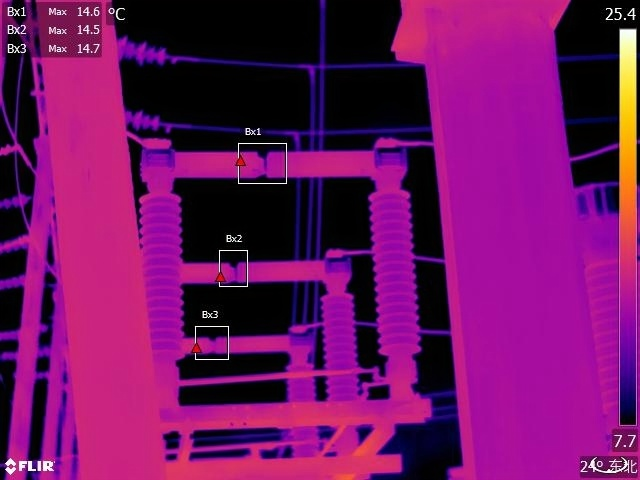current transformer: (574, 177, 640, 472)
insulator: (113, 31, 181, 73), (126, 107, 167, 135), (1, 348, 48, 366), (1, 234, 33, 260), (1, 133, 25, 166), (1, 189, 32, 213), (1, 274, 35, 294), (3, 326, 25, 341)
post insulator: (370, 191, 431, 365), (135, 183, 189, 356), (320, 288, 363, 409), (284, 355, 325, 463)
switch: (138, 140, 413, 201), (182, 240, 357, 306), (186, 315, 320, 368)
